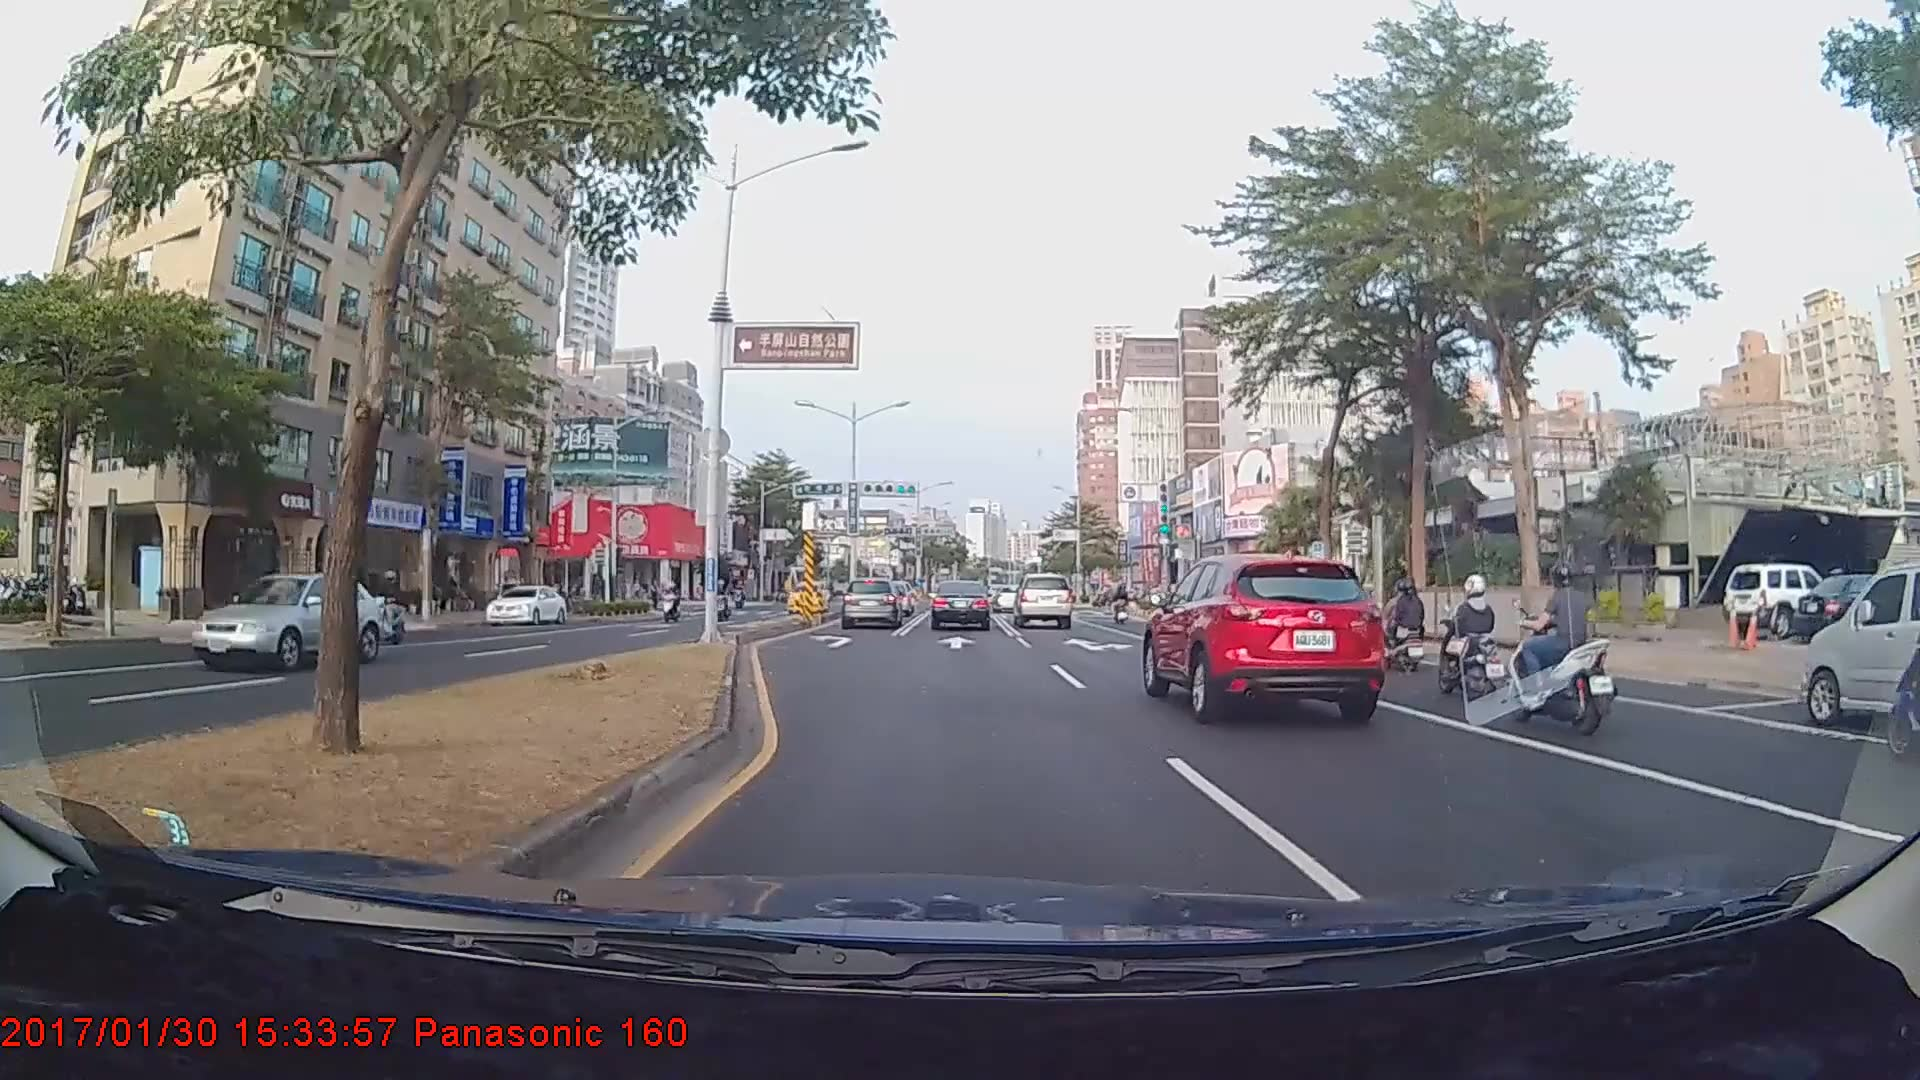rider: (1502, 561, 1622, 739), (1429, 570, 1512, 696), (1370, 570, 1429, 675), (366, 569, 416, 647), (655, 576, 689, 629)
vehicle: (1148, 548, 1384, 721), (190, 569, 385, 675), (1801, 558, 1918, 727), (1724, 563, 1830, 634), (1012, 571, 1074, 629), (487, 582, 566, 627), (841, 577, 906, 630), (930, 578, 991, 631), (785, 580, 830, 614)
